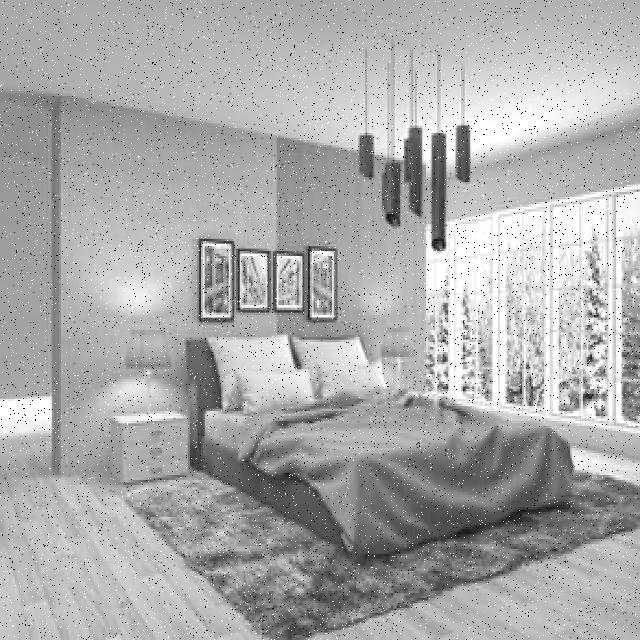bed: (182, 322, 574, 536)
